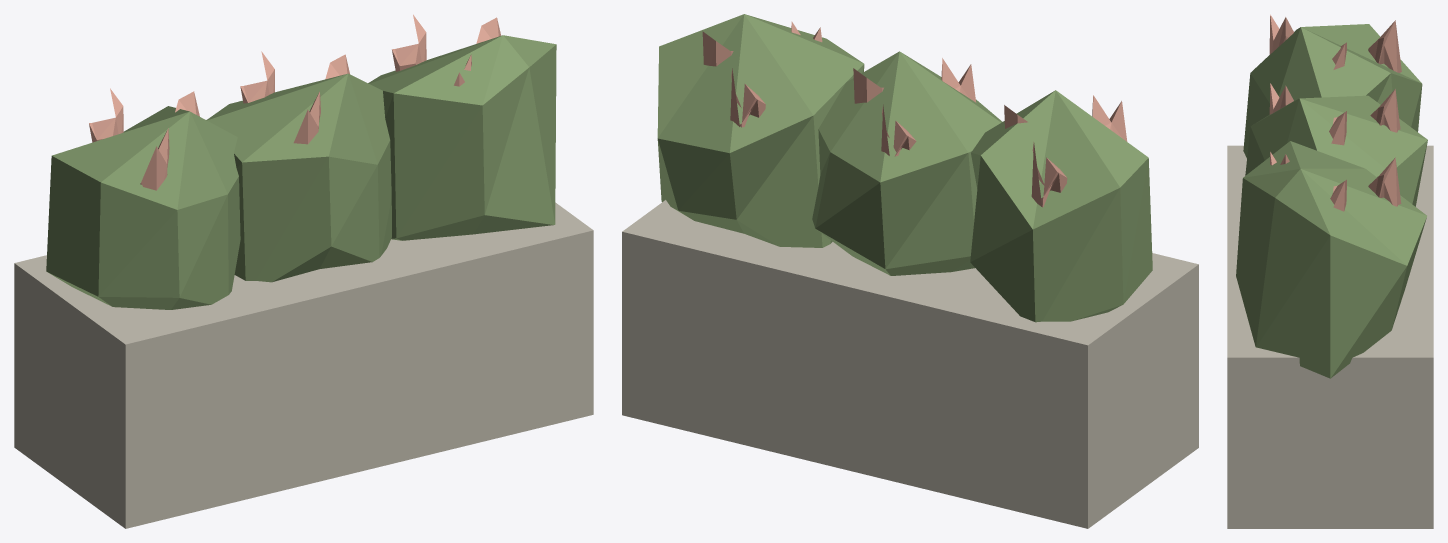
3 renders of one model, left to right at view 1: azimuth 30°, elevation 25°; view 2: azimuth 150°, elevation 25°; view 3: azimuth 270°, elevation 25°, orthographic. The views are drawn at different scales.
Bounding box in the file's own units: 1.77 × 1.26 × 0.7.
